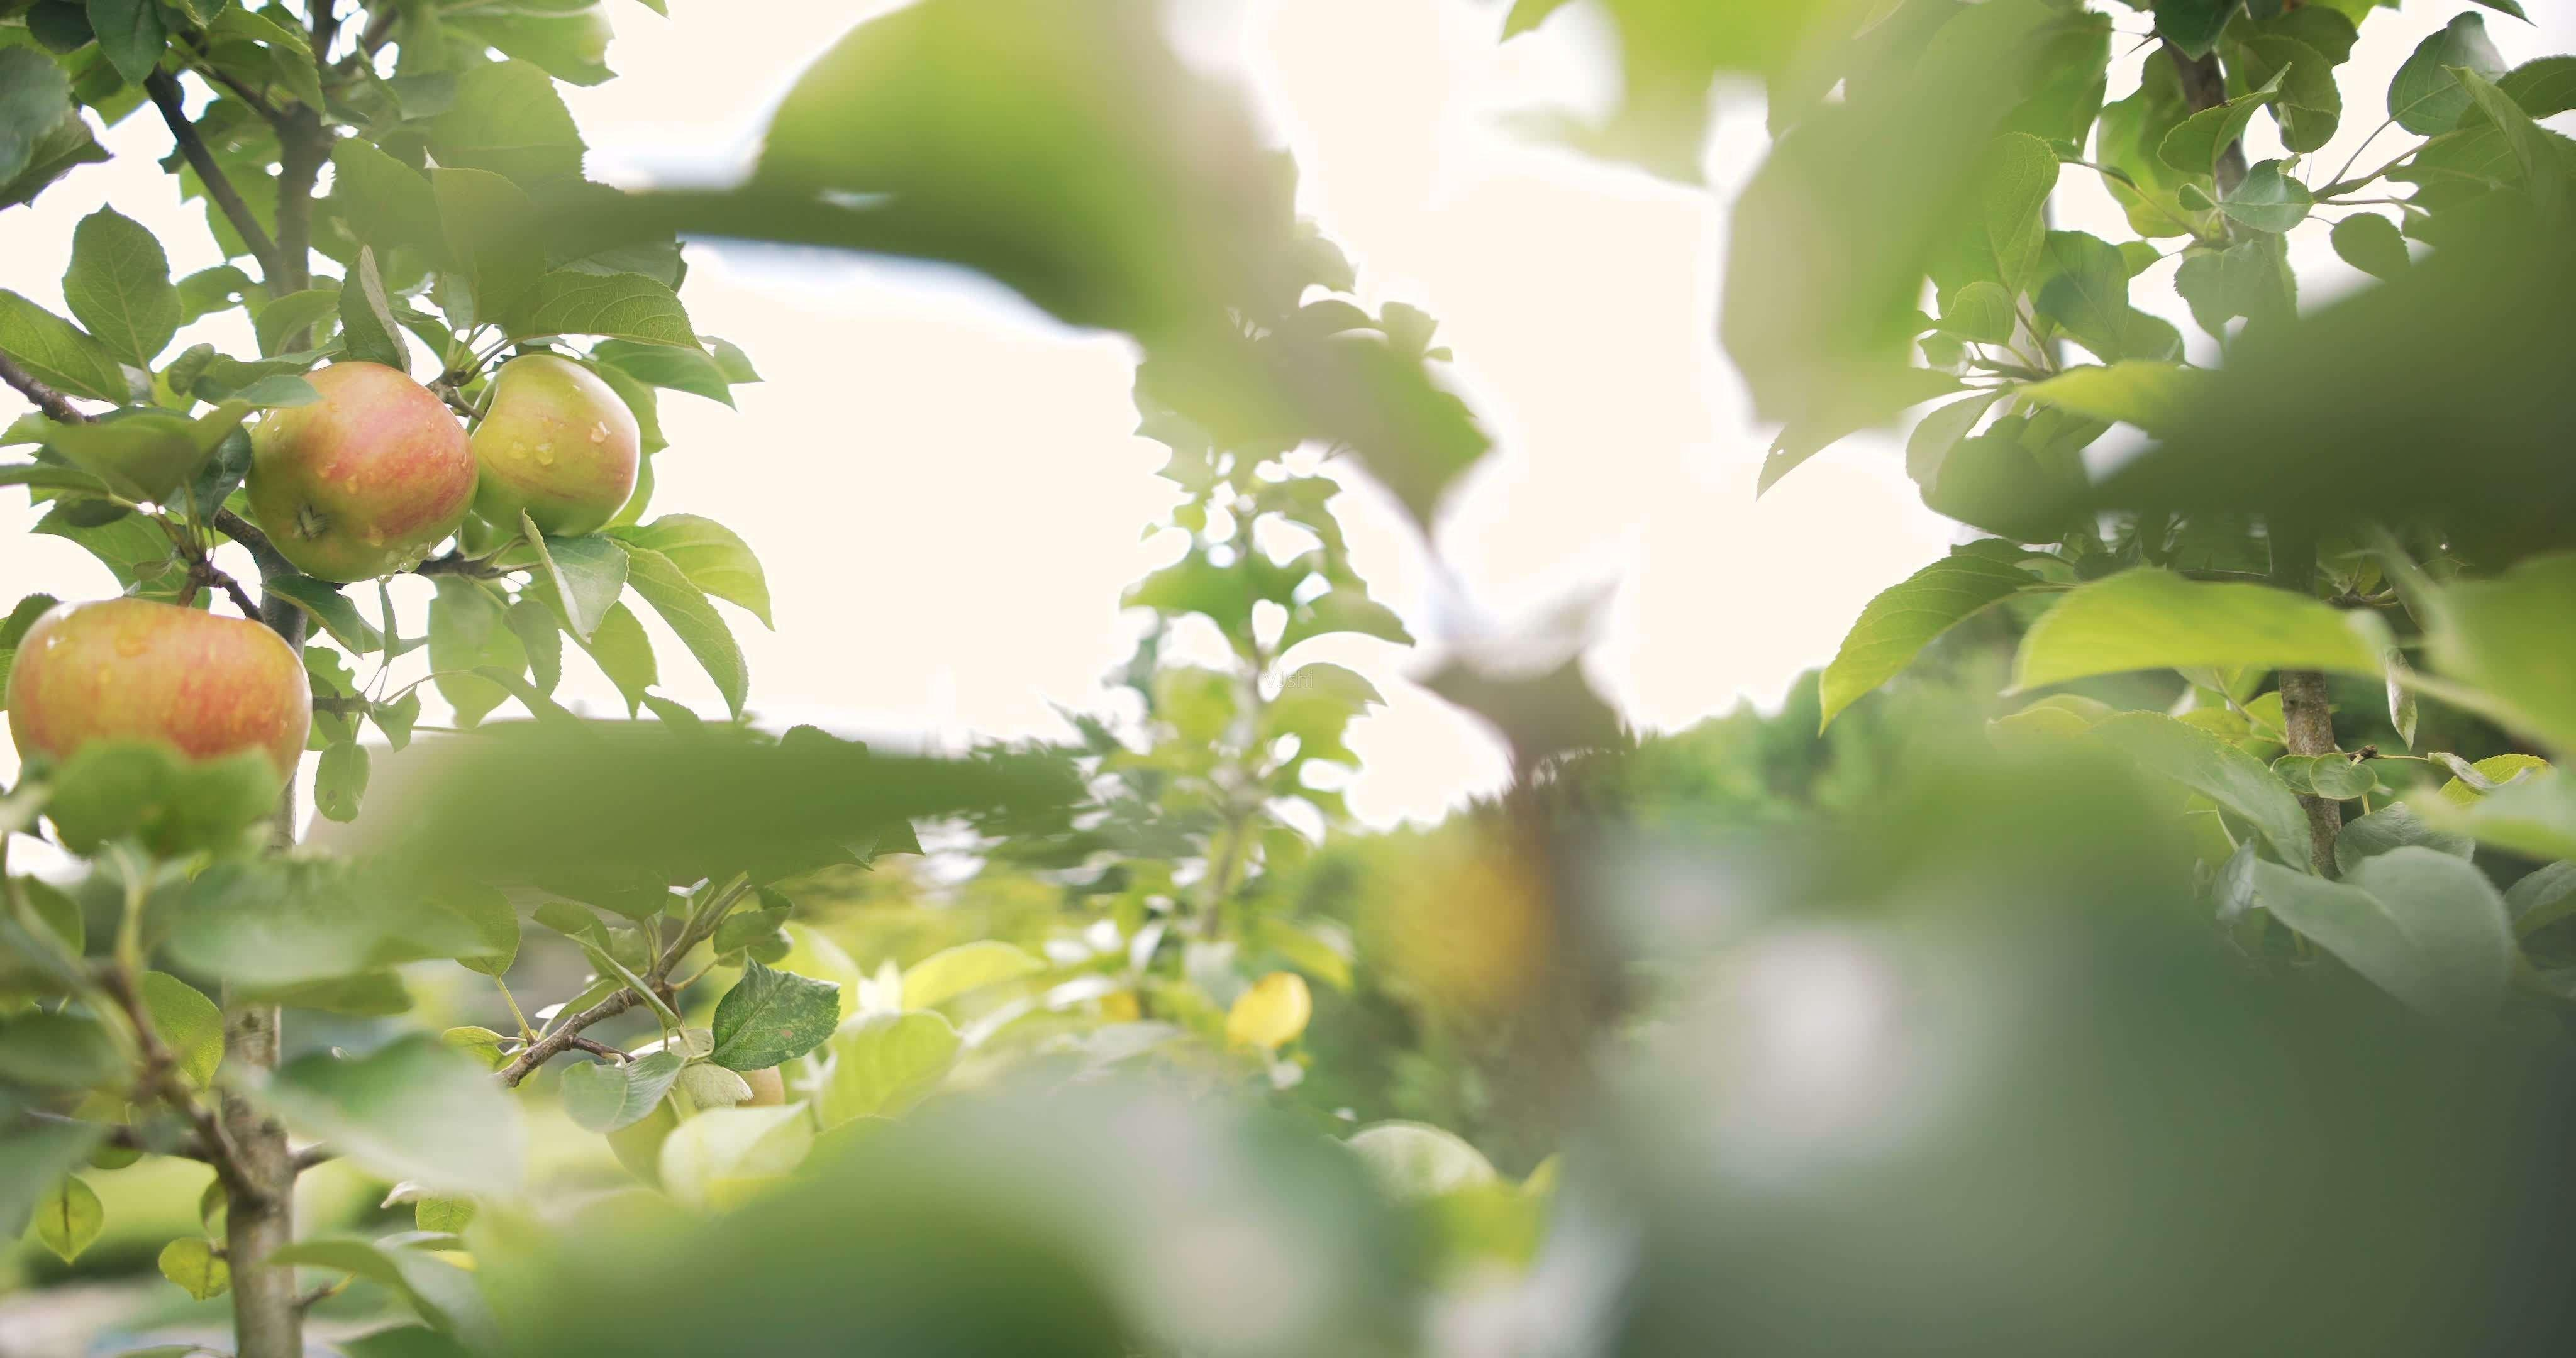apple: (5, 598, 313, 806), (250, 365, 477, 583), (469, 360, 646, 540)
